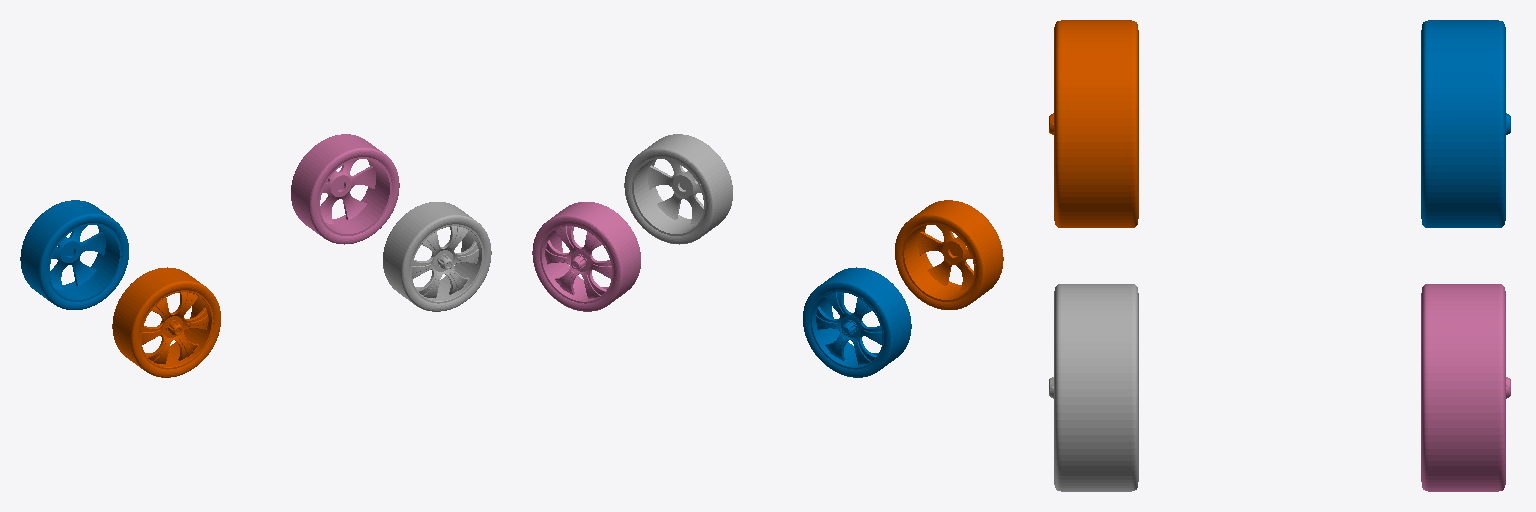
The robot description file, URDF, robot "scorpio_base_link":
<?xml version="1.0"?>
<!-- 
	spark base    
	© 2016 NXROBO INTERNATIONAL (HONG KONG) LIMITED.
    http://www.nxrobo.com
-->

<robot name="scorpio_base_link">

<link name="base_footprint"/>		
	<link name="base_link"/>	
		
	<joint name="base_footprint_joint" type="fixed">
		<origin xyz="0 0 0" rpy="0 0 0" />
		<parent link="base_footprint"/>
		<child link="base_link" />
	</joint>
		
	<link name="IMU_link"/>
  	<joint name="IMU_joint" type="fixed">
      		<origin xyz="0.16 0.04 0.175" rpy="0 0 -3.141592654" />
      		<parent link="base_link"/>
      		<child link="IMU_link"/>
  	</joint>
		
	<link name="room_base_link">
		<inertial>
		  <origin
		    xyz="-0.0078695 -0.020998 -0.001386"
		    rpy="0 0 0" />
		  <mass
		    value="0.54755" />
		  <inertia
		    ixx="0.00346146576565066"
		    ixy="-6.26423343889596E-06"
		    ixz="8.2000761035661E-05"
		    iyy="-1.84932053914363E-05"
		    iyz="-0.00410723070180017"
		    izz="1.84932053914367E-05" />
		</inertial>
		<visual>
		  <origin
		    xyz="0 0 0"
		    rpy="0 0 0" />
		  <geometry>
		    <mesh
		      filename="package://scorpio_description/meshes/scorpio/base/scorpio.stl" scale="0.001 0.001 0.001"/>
		  </geometry>
		  
		</visual>
		<collision>
		  <origin
		    xyz="0 0 0"
		    rpy="0 0 0" />
		  <geometry>
		    <mesh
		      filename="package://scorpio_description/meshes/scorpio/base/scorpio.stl" scale="0.001 0.001 0.001"/>
		  </geometry>
		</collision>	
	</link>	

 	<!--wheel link and joint-->
	<link name="left_back_wheel_link">
		<inertial>
		  <origin
		    xyz="0 0 0"
		    rpy="0 0 0" />
		  <mass
		    value="0.54755" />
		  <inertia

		    ixx="0.00346146576565066"
		    ixy="-6.26423343889596E-06"
		    ixz="8.2000761035661E-05"
		    iyy="-1.84932053914363E-05"
		    iyz="-0.00410723070180017"
		    izz="1.84932053914367E-05" />
		</inertial>
		<visual>
		  <origin
		    xyz="0 0 0"
		    rpy="0 0 0" />
		  <geometry>
		    <mesh
		      filename="package://scorpio_description/meshes/scorpio/base/left_wheel.stl" scale="0.001 0.001 0.001"/>
		  </geometry>
		  
		</visual>
		<collision>
		  <origin
		    xyz="0 0 0"
		    rpy="0 0 0" />
		  <geometry>
		    <mesh
		      filename="package://scorpio_description/meshes/scorpio/base/left_wheel.stl" scale="0.001 0.001 0.001"/>
		  </geometry>
		</collision>	
	</link>  
	
	<joint name="left_back_wheel_joint" type="continuous">
		<origin xyz="-0.1575 0.0928 0.0525" rpy="0 0 0" />
		<axis xyz="0 1 0"/>
		<parent link="base_link"/>
		<child link="left_back_wheel_link" />
	</joint> 	
	
	
	
	<link name="right_back_wheel_link">
		<inertial>
		  <origin
		    xyz="0 0 0"
		    rpy="0 0 0" />
		  <mass
		    value="0.54755" />
		  <inertia

		    ixx="0.00346146576565066"
		    ixy="-6.26423343889596E-06"
		    ixz="8.2000761035661E-05"
		    iyy="-1.84932053914363E-05"
		    iyz="-0.00410723070180017"
		    izz="1.84932053914367E-05" />
		</inertial>
		<visual>
		  <origin
		    xyz="0 0 0"
		    rpy="0 0 0" />
		  <geometry>
		    <mesh
		      filename="package://scorpio_description/meshes/scorpio/base/right_wheel.stl" scale="0.001 0.001 0.001"/>
		  </geometry>
		  
		</visual>
		<collision>
		  <origin
		    xyz="0 0 0"
		    rpy="0 0 0" />
		  <geometry>
		    <mesh

		      filename="package://scorpio_description/meshes/scorpio/base/right_wheel.stl" scale="0.001 0.001 0.001"/>
		  </geometry>
		</collision>	
	</link>   
	
	<joint name="right_back_wheel_joint" type="continuous">
		<origin xyz="-0.1575 -0.0928 0.0525" rpy="0 0 0" />
		<axis xyz="0 1 0"/>
		<parent link="base_link"/>
		<child link="right_back_wheel_link" />
	</joint> 

 	<!--left_front_wheel_link and joint-->
	<link name="left_front_wheel_link">
		<inertial>
		  <origin
		    xyz="0 0 0"
		    rpy="0 0 0" />
		  <mass
		    value="0.54755" />
		  <inertia
		    ixx="0.00346146576565066"
		    ixy="-6.26423343889596E-06"
		    ixz="8.2000761035661E-05"
		    iyy="-1.84932053914363E-05"
		    iyz="-0.00410723070180017"
		    izz="1.84932053914367E-05" />
		</inertial>
		<visual>
		  <origin
		    xyz="0 0 0"
		    rpy="0 0 0" />
		  <geometry>
		    <mesh
		      filename="package://scorpio_description/meshes/scorpio/base/left_wheel.stl" scale="0.001 0.001 0.001"/>
		  </geometry>
		  
		</visual>
		<collision>
		  <origin
		    xyz="0 0 0"
		    rpy="0 0 0" />
		  <geometry>
		    <mesh
		      filename="package://scorpio_description/meshes/scorpio/base/left_wheel.stl" scale="0.001 0.001 0.001"/>
		  </geometry>
		</collision>	
	</link>  
	
	<joint name="left_front_wheel_joint" type="continuous">
		<origin xyz="0.1575 0.0928 0.0525" rpy="0 0 0" />
		<axis xyz="0 1 0"/>
		<parent link="base_link"/>
		<child link="left_front_wheel_link" />
	</joint> 	
	
	
	
	<link name="right_front_wheel_link">
		<inertial>
		  <origin
		    xyz="0 0 0"
		    rpy="0 0 0" />
		  <mass
		    value="0.54755" />
		  <inertia
		    ixx="0.00346146576565066"
		    ixy="-6.26423343889596E-06"
		    ixz="8.2000761035661E-05"
		    iyy="-1.84932053914363E-05"
		    iyz="-0.00410723070180017"
		    izz="1.84932053914367E-05" />
		</inertial>
		<visual>
		  <origin
		    xyz="0 0 0"
		    rpy="0 0 0" />
		  <geometry>
		    <mesh
		      filename="package://scorpio_description/meshes/scorpio/base/right_wheel.stl" scale="0.001 0.001 0.001"/>
		  </geometry>
		  
		</visual>
		<collision>
		  <origin
		    xyz="0 0 0"
		    rpy="0 0 0" />
		  <geometry>
		    <mesh
		      filename="package://scorpio_description/meshes/scorpio/base/right_wheel.stl" scale="0.001 0.001 0.001"/>
		  </geometry>
		</collision>	
	</link>   
	
	<joint name="right_front_wheel_joint" type="continuous">
		<origin xyz="0.1575 -0.0928 0.0525" rpy="0 0 0" />
		<axis xyz="0 1 0"/>
		<parent link="base_link"/>
		<child link="right_front_wheel_link" />
	</joint> 


	<joint name="room_base_joint" type="fixed">
		<origin xyz="0 0 0" rpy="0 0 0" />
		<parent link="base_link"/>
		<child link="room_base_link" />
	</joint>
	
</robot>



--- What the picture shows (computed from the rendered views, not written in the file) ---
The picture shows the robot from 3 angles, left to right: view 1: azimuth 30°, elevation 25°; view 2: azimuth 150°, elevation 25°; view 3: azimuth 270°, elevation 25°; orthographic projection.
Robot: scorpio_base_link — 8 links, 7 joints (4 continuous, 3 fixed); root link base_footprint; default pose: all joints at 0.
Links seen in each view (by area): view 1: left_back_wheel_link, right_front_wheel_link, left_front_wheel_link, right_back_wheel_link; view 2: left_front_wheel_link, right_back_wheel_link, left_back_wheel_link, right_front_wheel_link; view 3: left_back_wheel_link, right_back_wheel_link, left_front_wheel_link, right_front_wheel_link.
Boxes of the visible links, x1,y1,x2,y2 form: left_back_wheel_link: (20, 200, 128, 309); right_front_wheel_link: (383, 202, 491, 311); left_front_wheel_link: (291, 134, 399, 244); right_back_wheel_link: (112, 267, 220, 377); left_front_wheel_link: (532, 202, 640, 311); right_back_wheel_link: (895, 200, 1003, 309); left_back_wheel_link: (803, 267, 911, 377); right_front_wheel_link: (624, 134, 732, 244); left_back_wheel_link: (1421, 20, 1510, 227); right_back_wheel_link: (1049, 20, 1138, 227); left_front_wheel_link: (1421, 284, 1510, 491); right_front_wheel_link: (1049, 284, 1138, 491).
Size in the robot's own frame: 0.4199 by 0.2331 by 0.105 metres.
Meshes: 3 distinct files referenced, 4 mesh visuals loaded (2 binary STL); not drawn: 1 (reference not matched to a file when rendering).